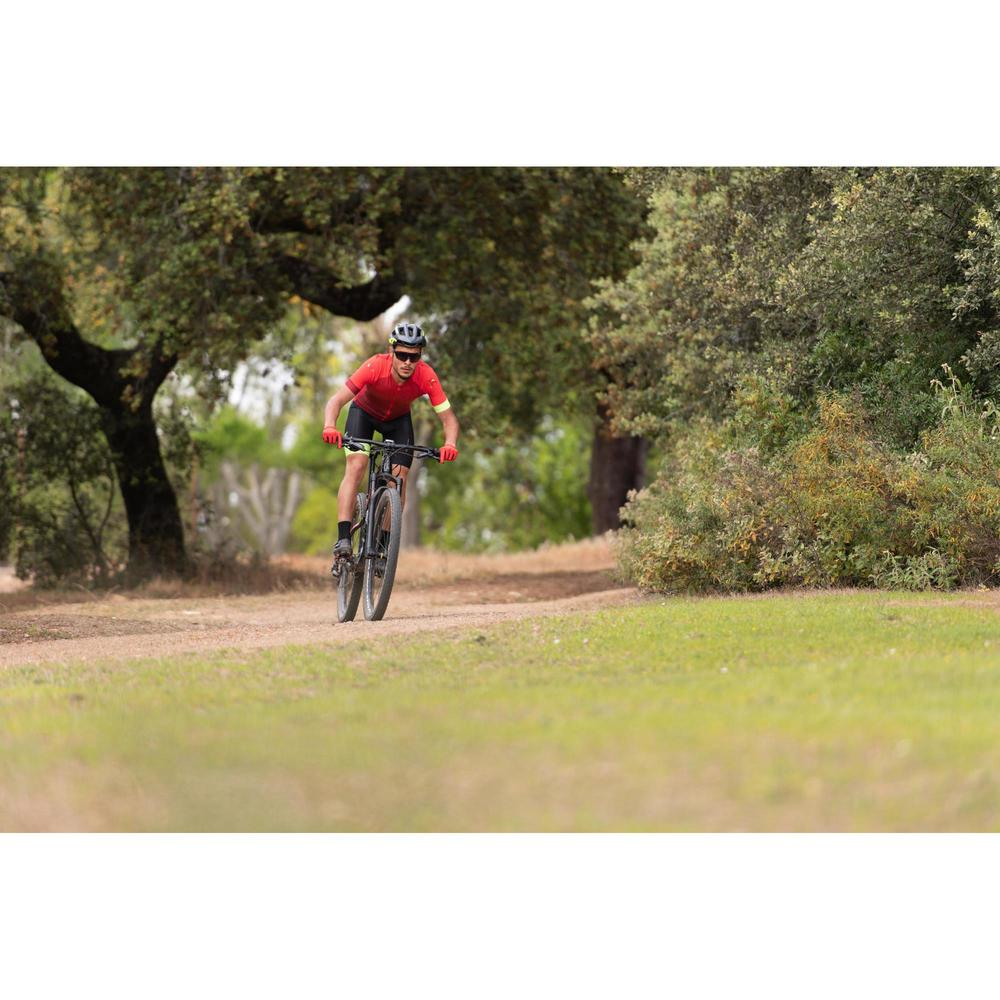MountainBike: (299, 421, 461, 620)
